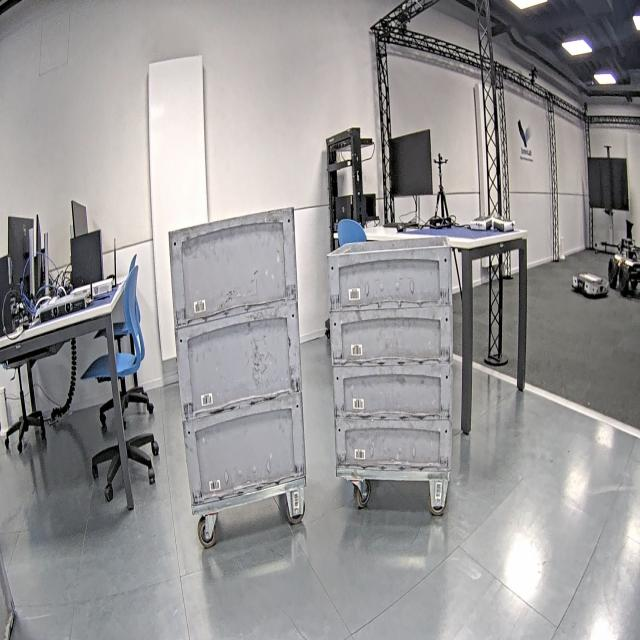Box3G: (328, 236, 453, 310), (328, 308, 452, 368), (331, 364, 452, 421), (333, 416, 453, 472)
Box4G: (167, 300, 306, 420), (167, 207, 298, 331), (178, 390, 306, 499)
